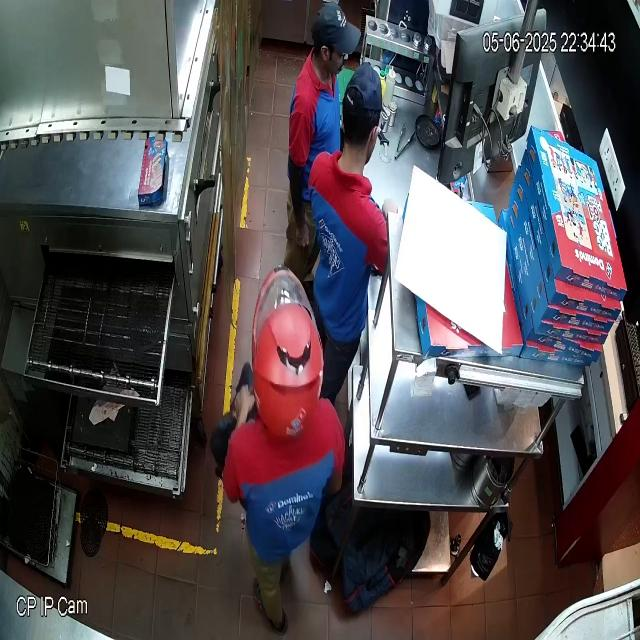helmet: (251, 265, 323, 437)
no_helmet: (312, 2, 361, 75)
